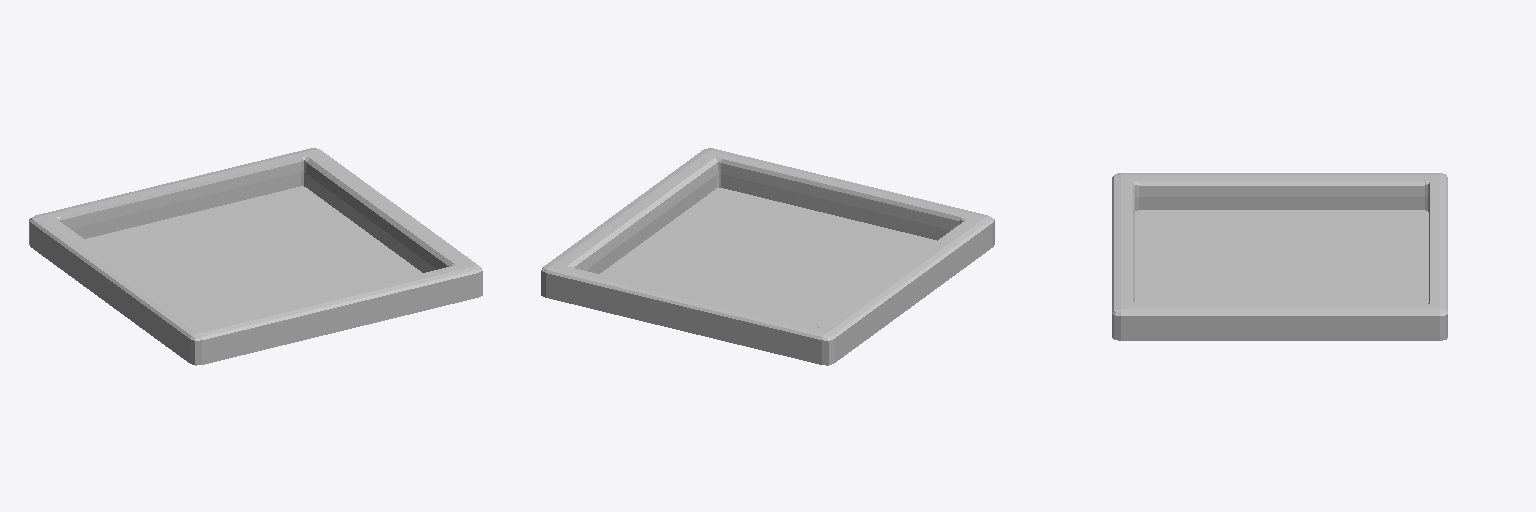
The model's file is buttonBase.obj.
The picture shows the model from 3 angles: view 1: azimuth 30°, elevation 25°; view 2: azimuth 150°, elevation 25°; view 3: azimuth 270°, elevation 25°; orthographic projection.
Bounding box in the file's own units: 1.41 × 0.1292 × 1.41.